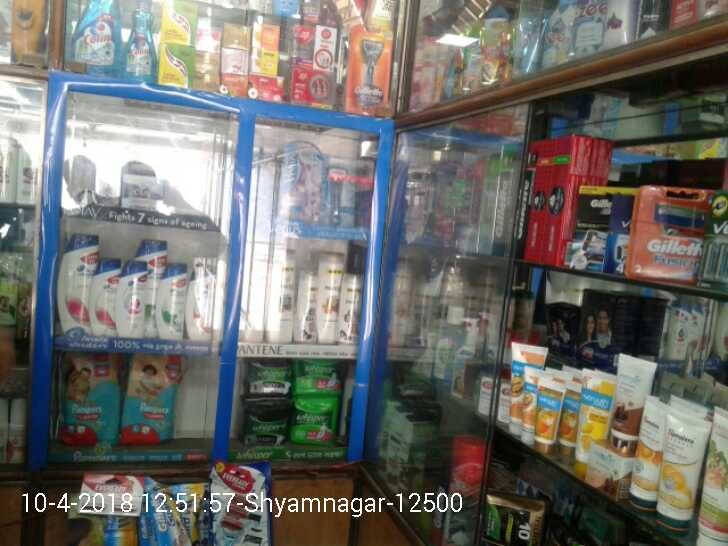gillete: (628, 185, 704, 276), (346, 29, 392, 112), (576, 185, 604, 269), (512, 147, 532, 257), (494, 147, 509, 256), (610, 196, 625, 270)
venus: (281, 141, 318, 224), (322, 158, 355, 224)
